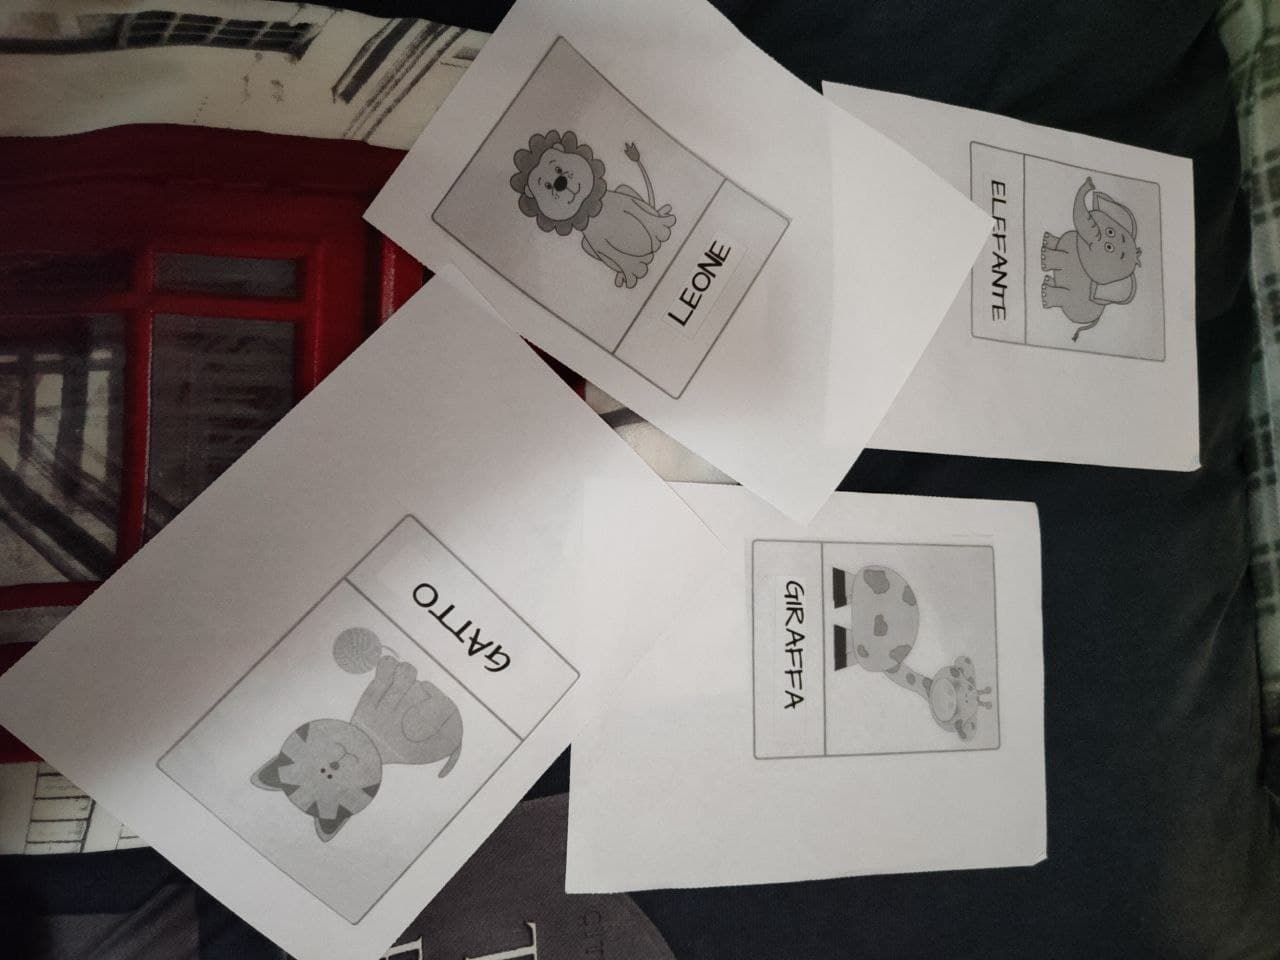elefante: (980, 153, 1161, 361)
gatto: (240, 572, 518, 846)
giraffa: (764, 561, 999, 750)
leone: (500, 87, 757, 363)
